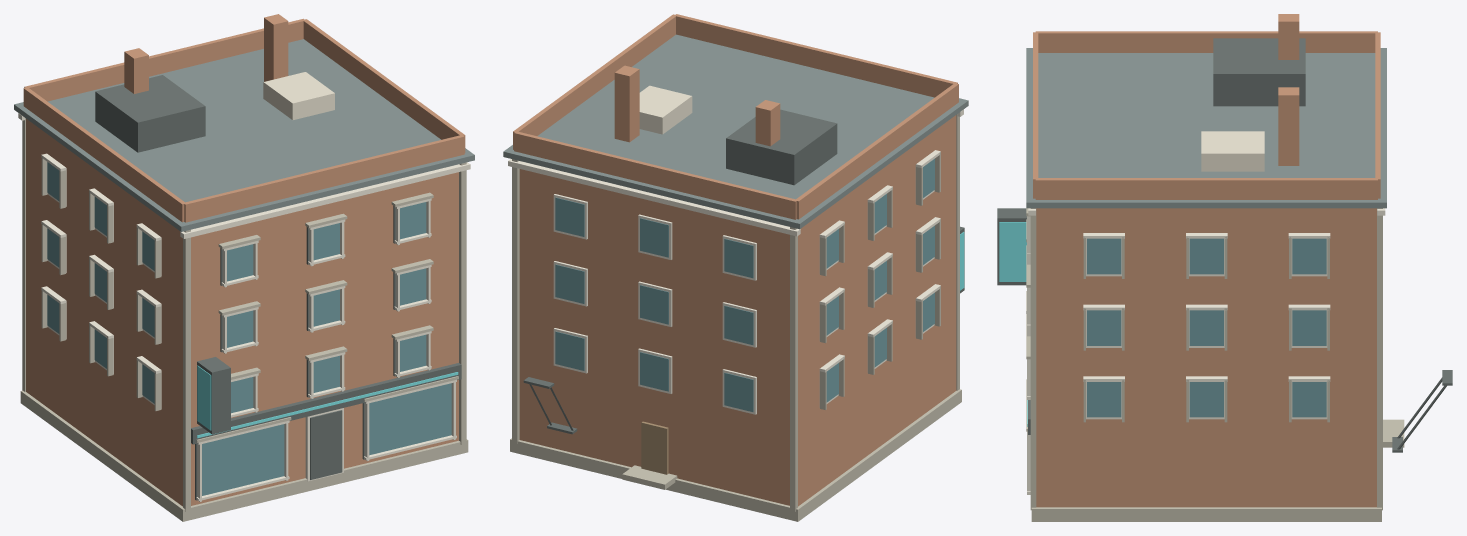
The picture shows the model from 3 angles, left to right: view 1: azimuth 30°, elevation 25°; view 2: azimuth 150°, elevation 25°; view 3: azimuth 270°, elevation 25°; orthographic projection. The views are drawn at different scales.
Size of the model in its own units: 13.9 by 16.44 by 17.3.
